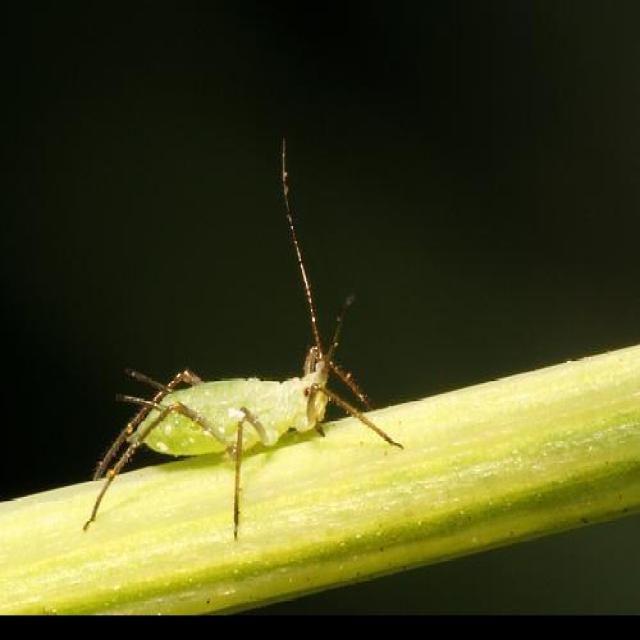Aphids: (86, 200, 407, 528)
